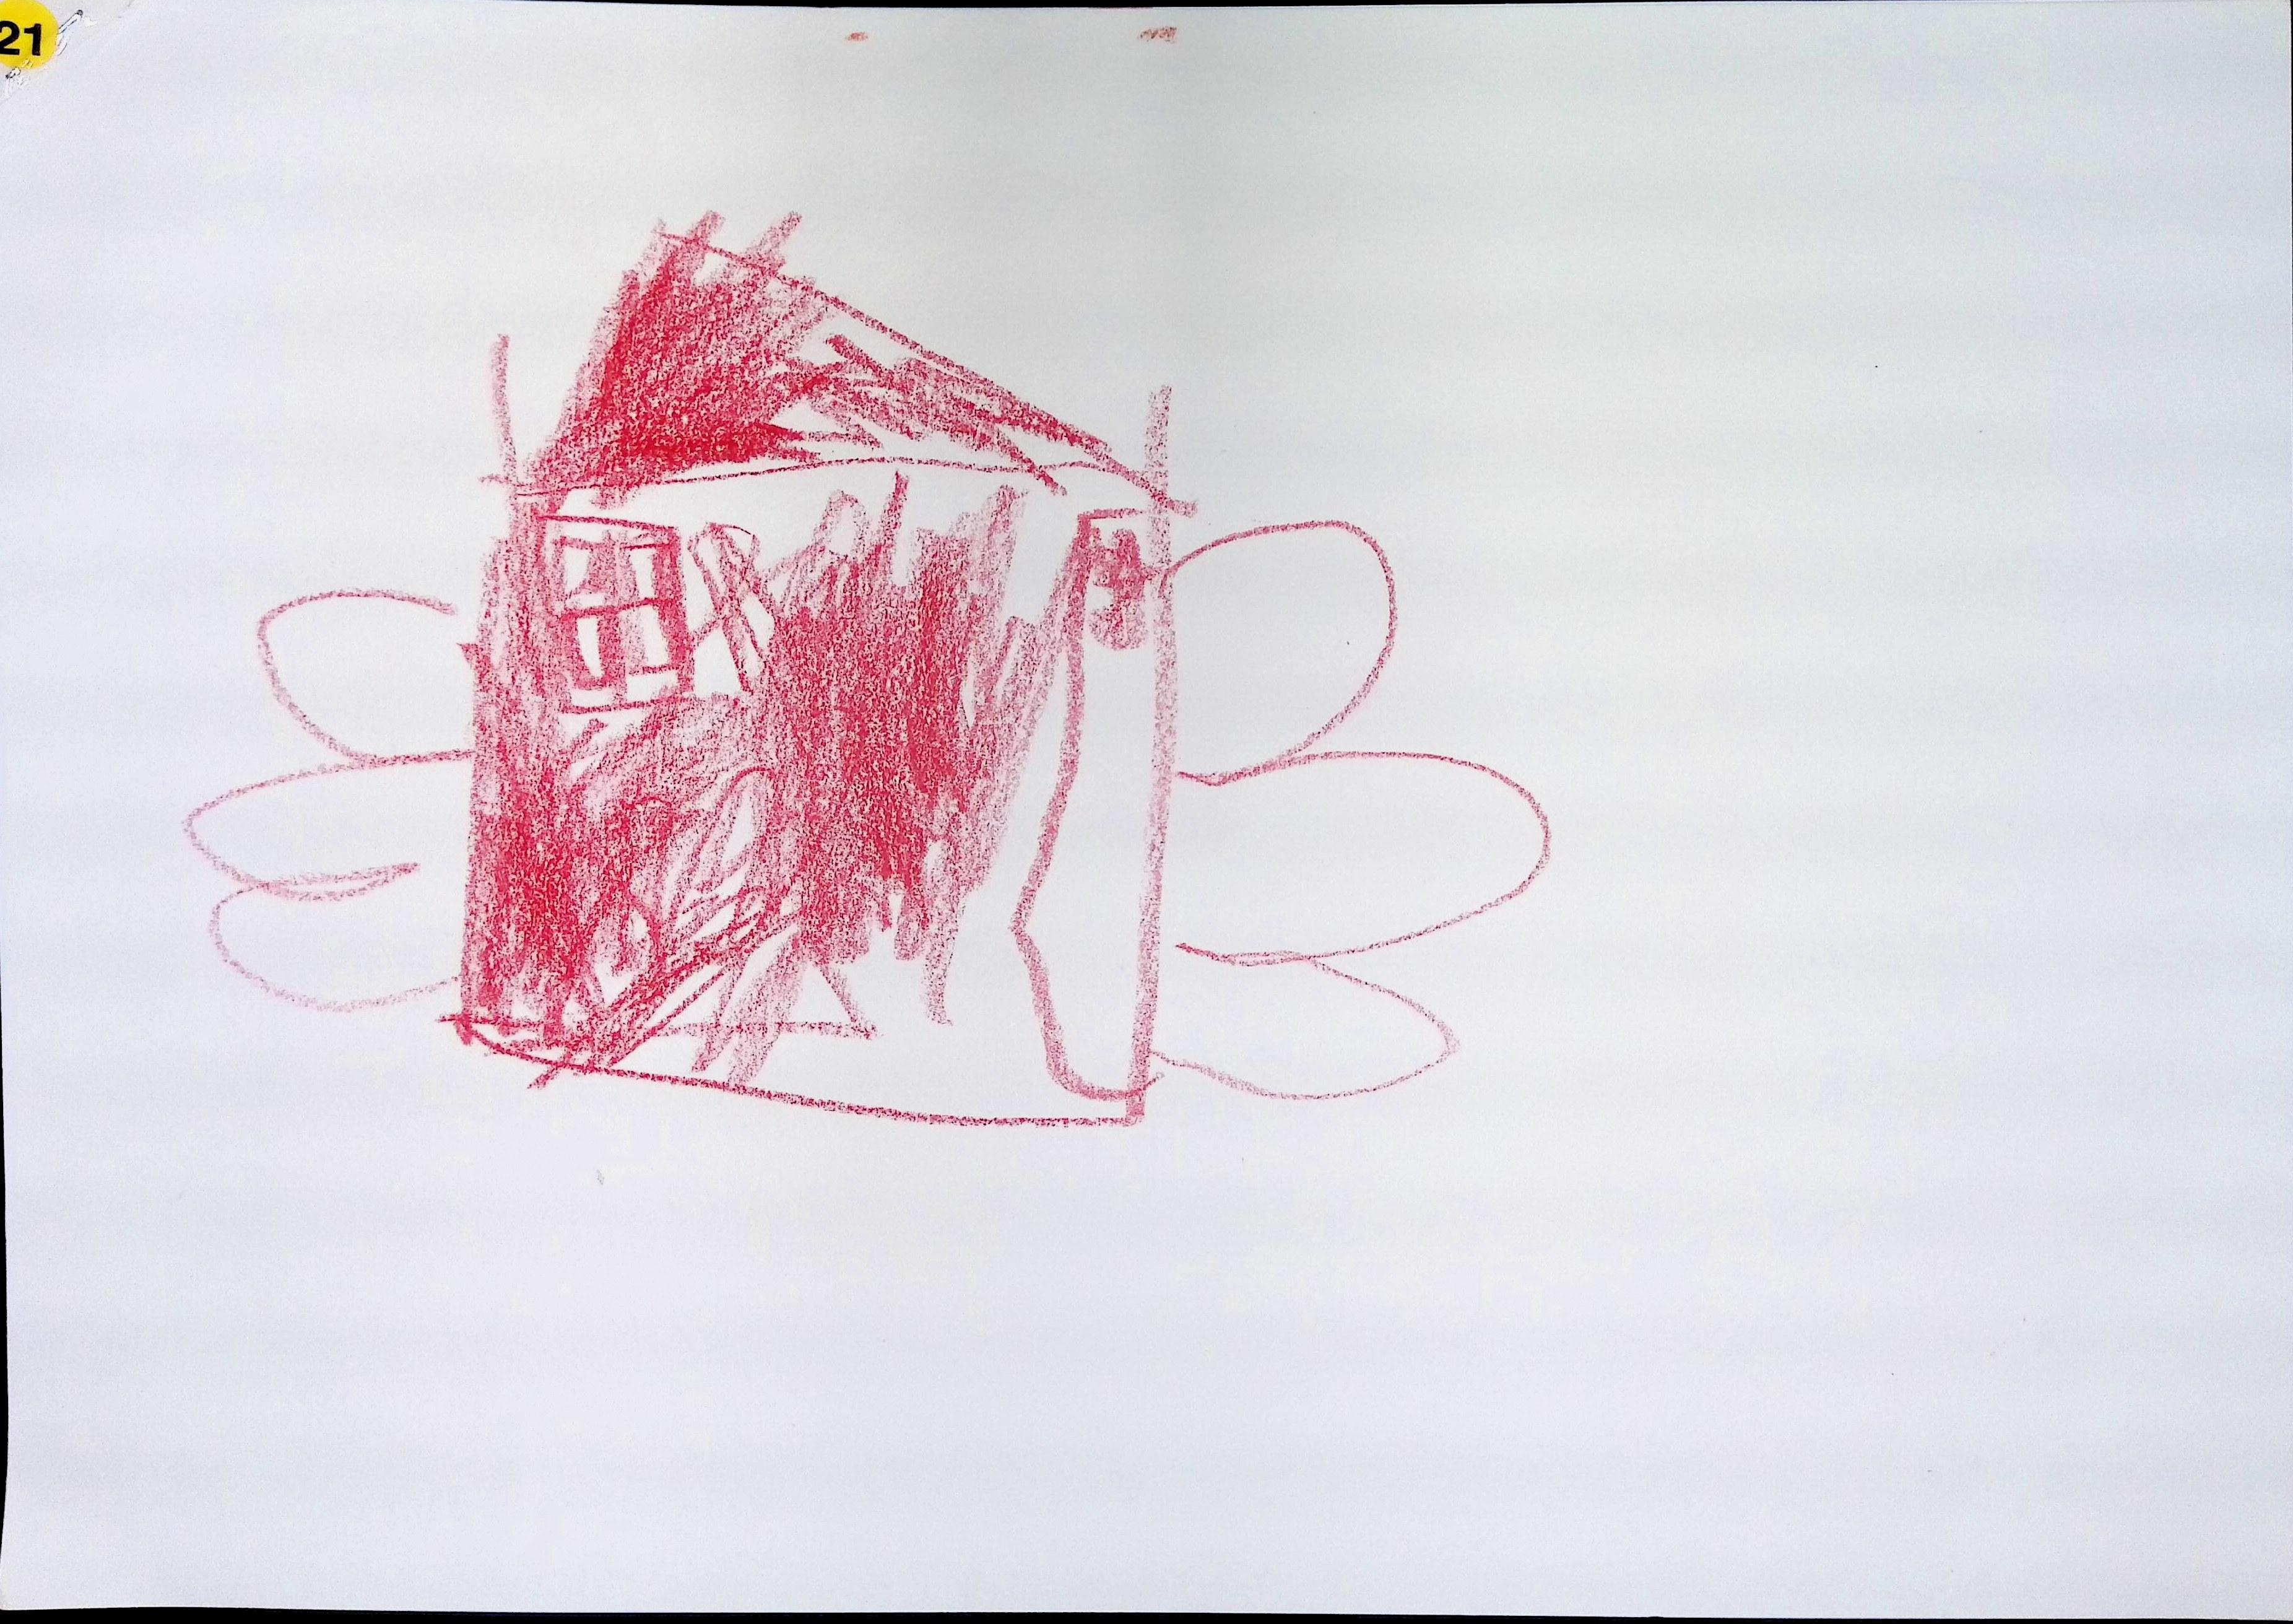door: (1021, 506, 1172, 1098)
house: (452, 230, 1190, 1121)
roof: (506, 220, 1186, 497)
wall: (455, 468, 1172, 1121)
window: (518, 511, 694, 712)
